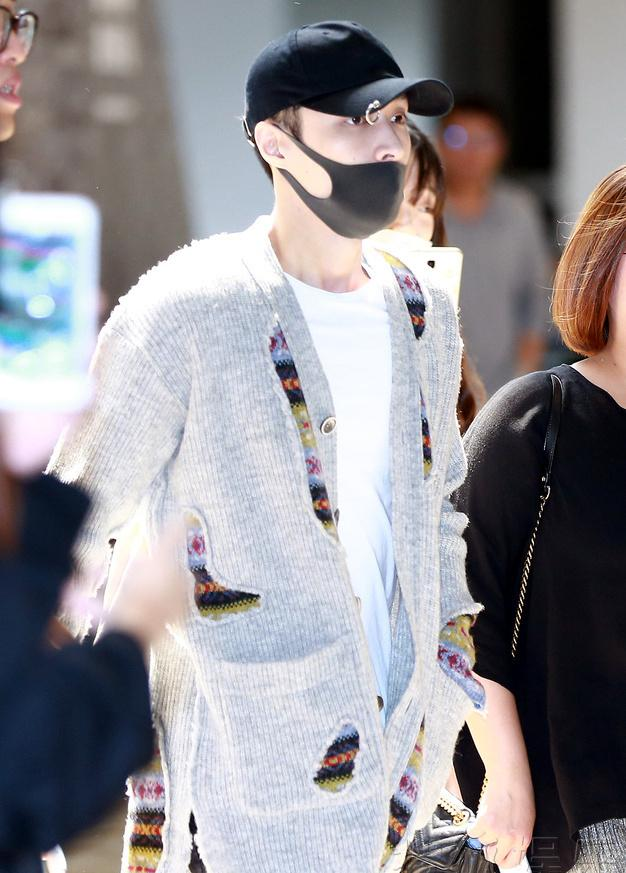face_mask: (302, 89, 412, 239)
